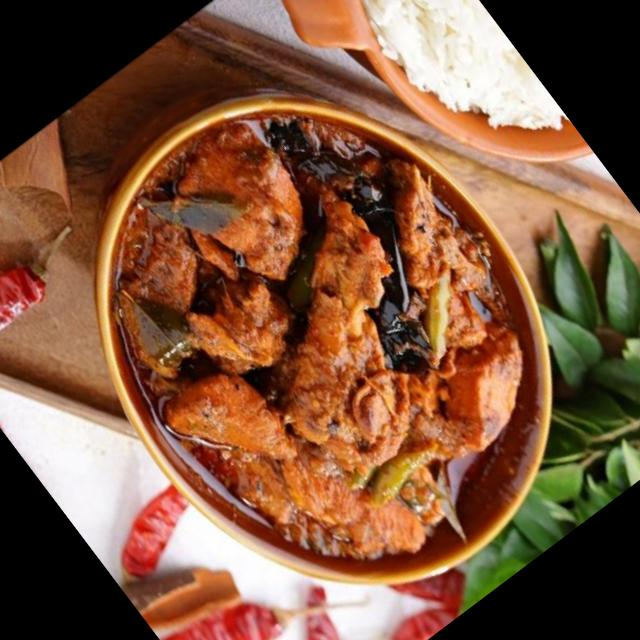chicken: (73, 72, 578, 594)
